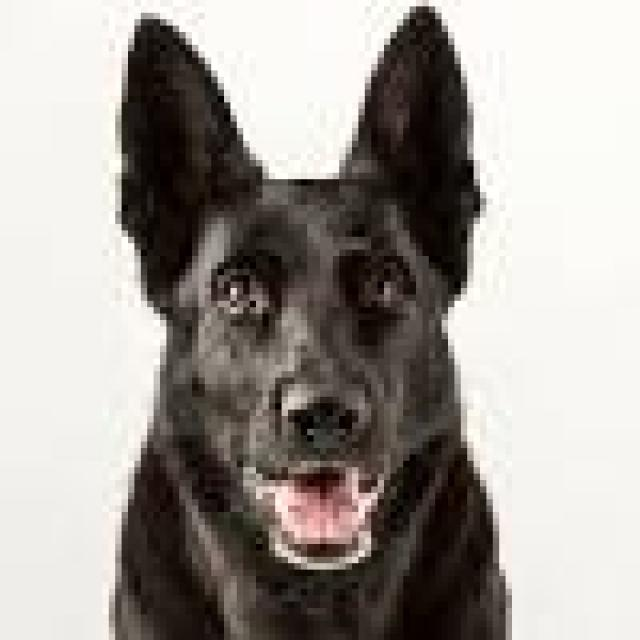Dog: (98, 0, 514, 640)
